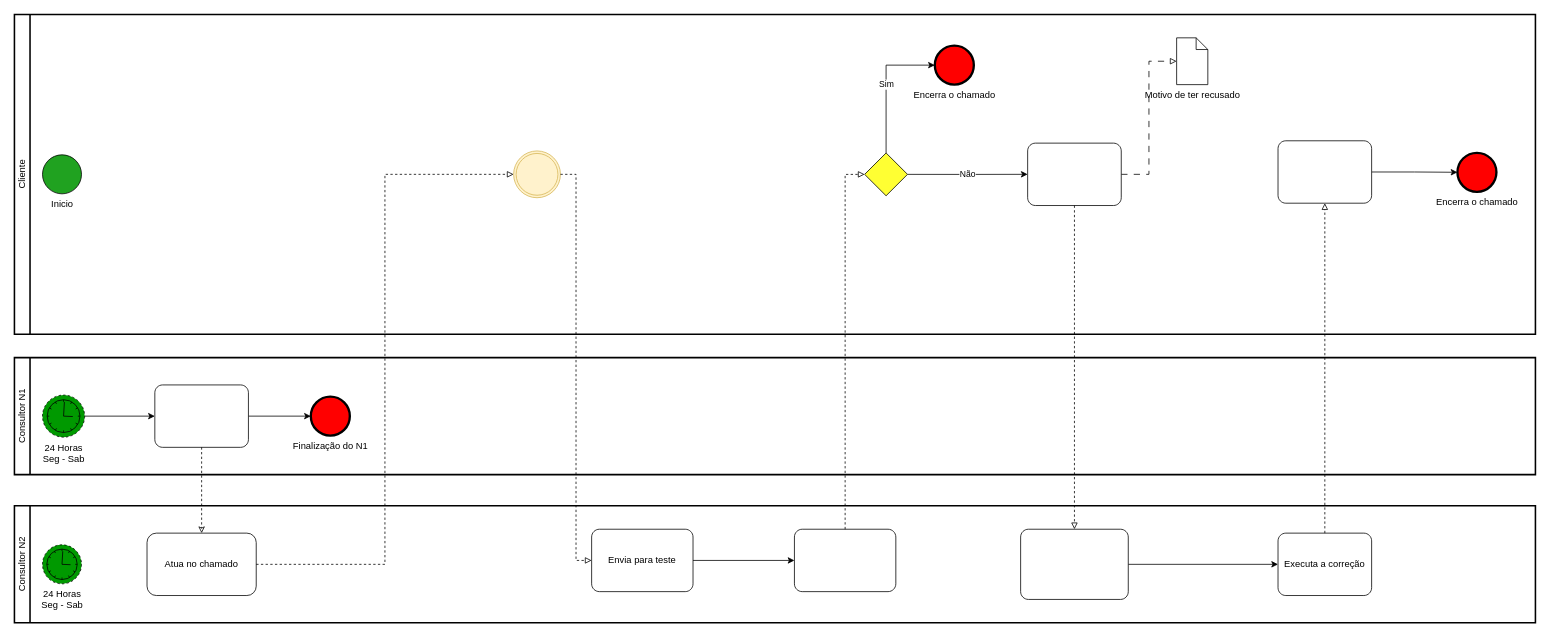
The diagram is 1549 pixels wide and 636 high, and some of its shapes have lost their labels. Here are the shapes that lost their labels. From the top down, the centre of each, then its label:
At point 536,174: "Uma semana".
At point 886,174: "Aprovado?".
At point 1074,174: "Relata o problema".
At point 1324,171: "Correção aprovada".
At point 201,415: "Envia as informações técnicas para o N2".
At point 845,560: "Realiza o teste".
At point 1074,563: "Corrige o erro".
